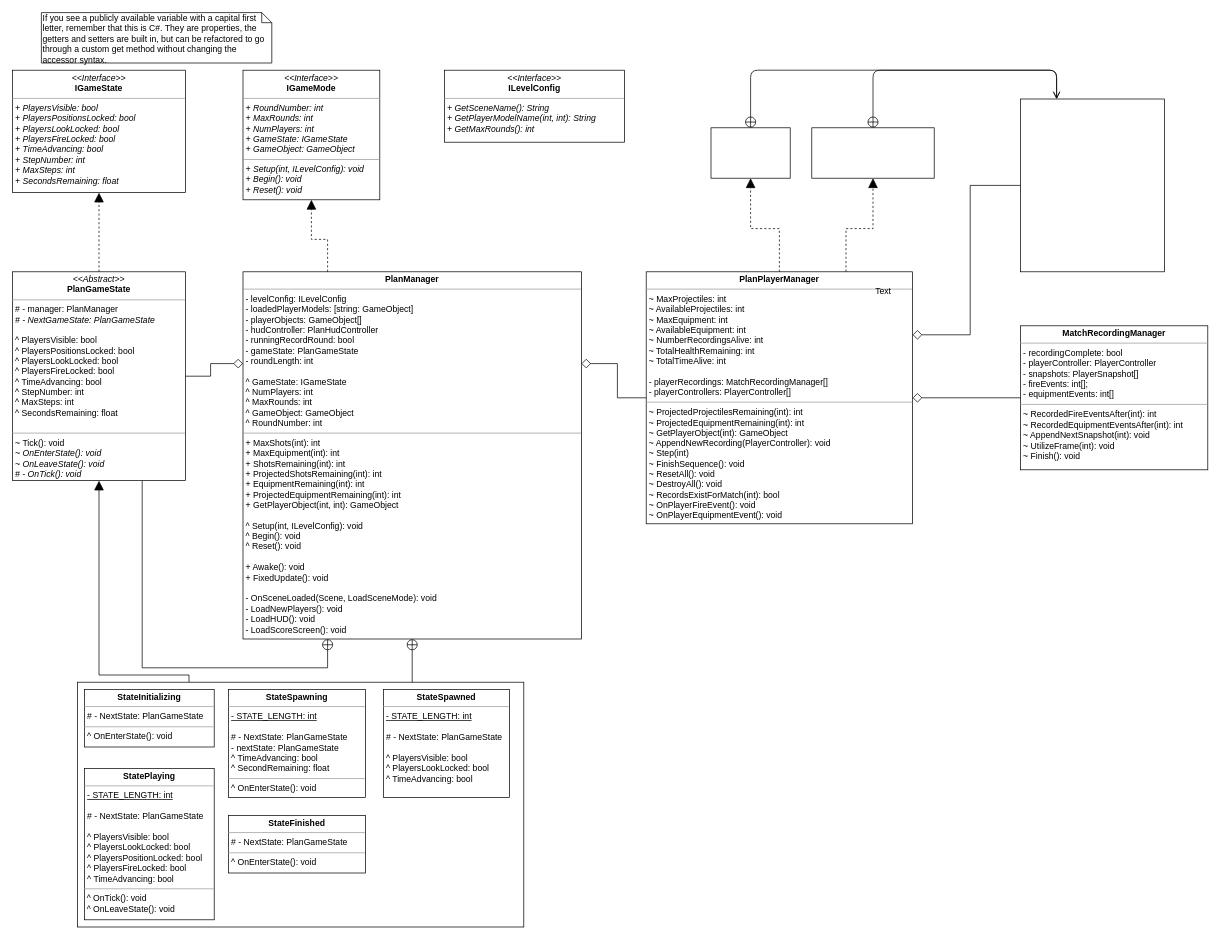
Some shapes in this 1220 by 940 pixel diagram are drawn without their labels. Here are the shapes that lost their labels. From the top down, the centre of each, then its label:
At (750,152): "«interface» FireEventListener".
At (872,152): "«interface» EquipmentEventListener".
At (1092,185): "PlayerController".
